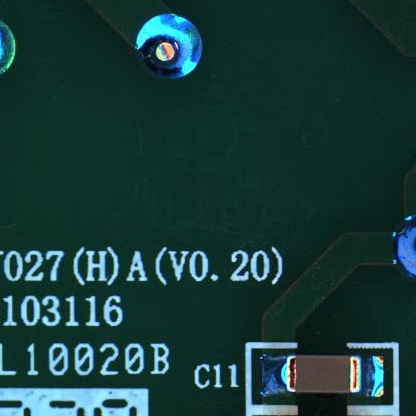spot: (131, 14, 203, 83)
